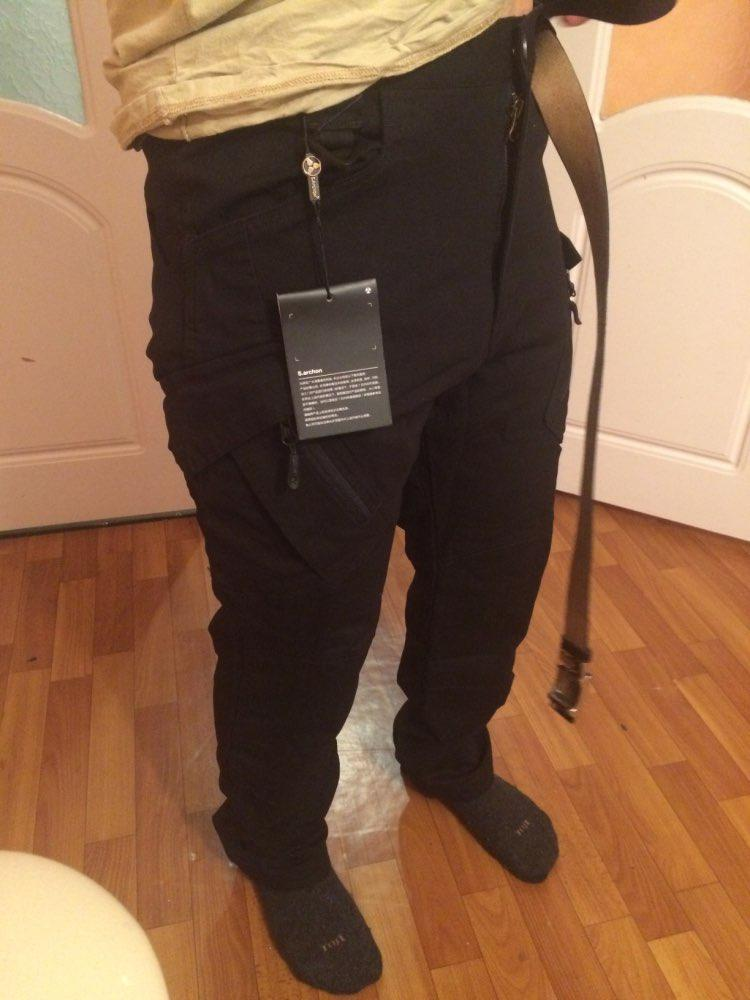pants: (119, 21, 575, 835)
